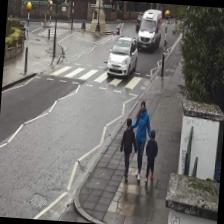person: (128, 99, 152, 180), (118, 117, 138, 179), (144, 130, 159, 182)
